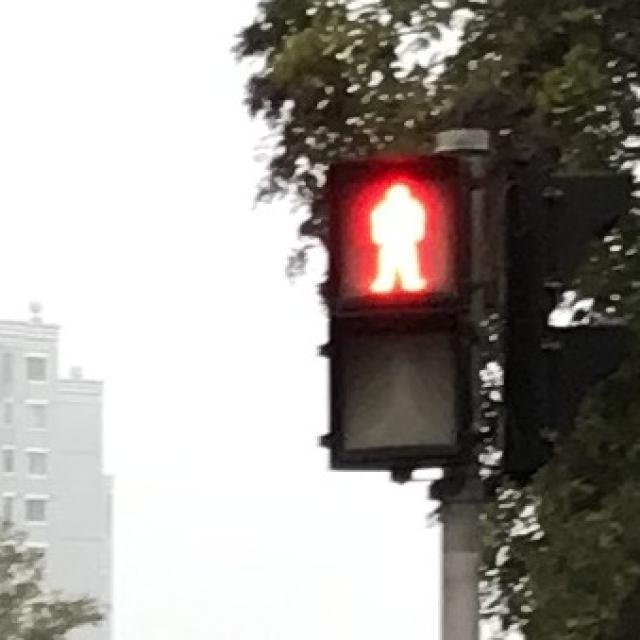red-crossing: (330, 166, 448, 300)
